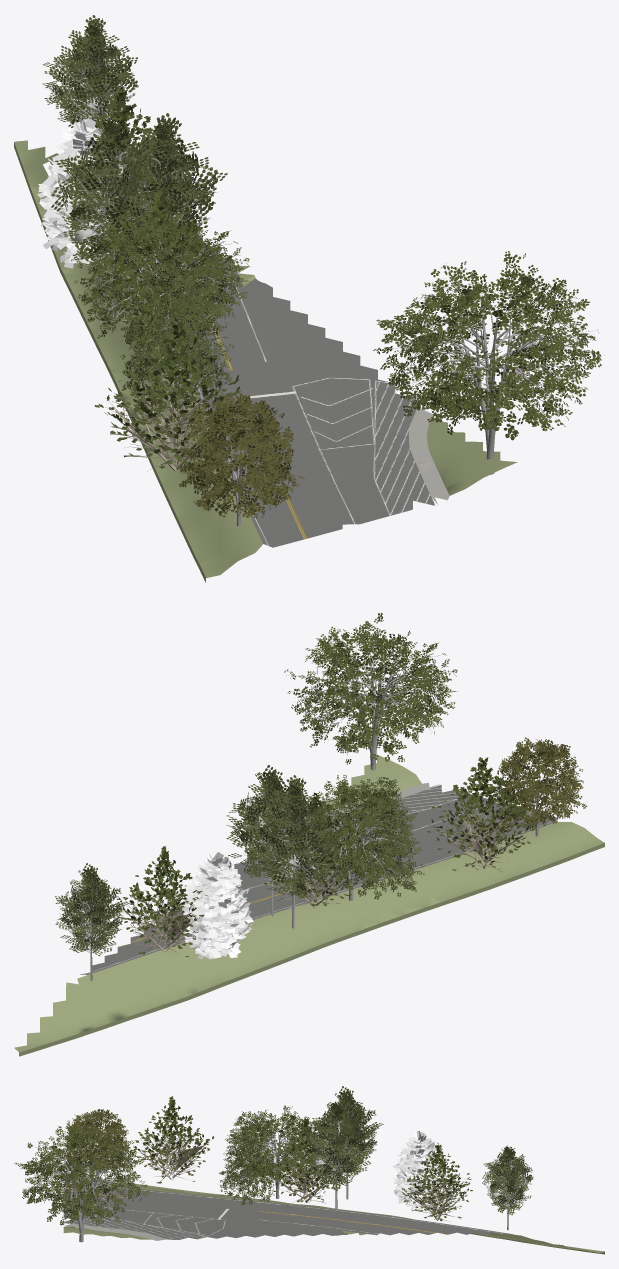
3 views of the same model, one above another, from view 1: azimuth 30°, elevation 25°; view 2: azimuth 150°, elevation 25°; view 3: azimuth 270°, elevation 25° (orthographic). The views are drawn at different scales.
Parts seen in each view (by area): view 1: SW_W_trees_Tree_039_UNVERIFIEDspecies, SW_ground_west_asphalt_-3_1_UNVERIFIED, SW_W_trees_Tree_041_UNVERIFIEDspecies, SW_ground_west_lawn_-3_1, SW_W_trees_Tree_082_UNVERIFIEDspecies, SW_W_trees_Tree_103_UNVERIFIEDspecies, SW_W_trees_Tree_086_UNVERIFIEDspecies, SW_ground_west_asphalt_-3_1, SW_W_trees_Tree_098_UNVERIFIEDspecies, SW_ground_west_concrete_-3_1_UNVERIFIED; view 2: SW_ground_west_lawn_-3_1, SW_W_trees_Tree_039_UNVERIFIEDspecies, SW_W_trees_Tree_041_UNVERIFIEDspecies, SW_W_trees_Tree_082_UNVERIFIEDspecies, SW_ground_west_asphalt_-3_1_UNVERIFIED, SW_W_trees_Tree_098_UNVERIFIEDspecies, SW_W_trees_Tree_103_UNVERIFIEDspecies, SW_W_trees_Tree_086_UNVERIFIEDspecies, SW_ground_west_asphalt_-3_1; view 3: SW_W_trees_Tree_039_UNVERIFIEDspecies, SW_ground_west_asphalt_-3_1_UNVERIFIED, SW_W_trees_Tree_082_UNVERIFIEDspecies, SW_W_trees_Tree_041_UNVERIFIEDspecies, SW_W_trees_Tree_086_UNVERIFIEDspecies, SW_W_trees_Tree_098_UNVERIFIEDspecies, SW_ground_west_lawn_-3_1, SW_W_trees_Tree_103_UNVERIFIEDspecies, SW_ground_west_asphalt_-3_1, SW_ground_west_concrete_-3_1_UNVERIFIED.
Boxes of the visible parts, x1,y1,x2,y2 form: SW_W_trees_Tree_039_UNVERIFIEDspecies: [71, 199, 604, 526]; SW_ground_west_asphalt_-3_1_UNVERIFIED: [142, 215, 418, 547]; SW_W_trees_Tree_041_UNVERIFIEDspecies: [42, 15, 227, 316]; SW_ground_west_lawn_-3_1: [14, 140, 517, 582]; SW_W_trees_Tree_082_UNVERIFIEDspecies: [81, 86, 240, 471]; SW_W_trees_Tree_103_UNVERIFIEDspecies: [179, 393, 304, 518]; SW_W_trees_Tree_086_UNVERIFIEDspecies: [118, 241, 234, 413]; SW_ground_west_asphalt_-3_1: [318, 469, 435, 524]; SW_W_trees_Tree_098_UNVERIFIEDspecies: [37, 118, 121, 268]; SW_ground_west_concrete_-3_1_UNVERIFIED: [409, 408, 449, 504]; SW_ground_west_lawn_-3_1: [14, 754, 604, 1056]; SW_W_trees_Tree_039_UNVERIFIEDspecies: [284, 613, 582, 900]; SW_W_trees_Tree_041_UNVERIFIEDspecies: [55, 765, 338, 981]; SW_W_trees_Tree_082_UNVERIFIEDspecies: [115, 757, 533, 956]; SW_ground_west_asphalt_-3_1_UNVERIFIED: [80, 801, 558, 974]; SW_W_trees_Tree_098_UNVERIFIEDspecies: [181, 852, 253, 959]; SW_W_trees_Tree_103_UNVERIFIEDspecies: [492, 737, 587, 830]; SW_W_trees_Tree_086_UNVERIFIEDspecies: [340, 777, 424, 899]; SW_ground_west_asphalt_-3_1: [396, 784, 499, 824]; SW_W_trees_Tree_039_UNVERIFIEDspecies: [14, 1105, 318, 1242]; SW_ground_west_asphalt_-3_1_UNVERIFIED: [63, 1181, 504, 1239]; SW_W_trees_Tree_082_UNVERIFIEDspecies: [130, 1096, 472, 1221]; SW_W_trees_Tree_041_UNVERIFIEDspecies: [302, 1086, 533, 1230]; SW_W_trees_Tree_086_UNVERIFIEDspecies: [218, 1111, 276, 1205]; SW_W_trees_Tree_098_UNVERIFIEDspecies: [392, 1131, 444, 1213]; SW_ground_west_lawn_-3_1: [63, 1174, 604, 1254]; SW_W_trees_Tree_103_UNVERIFIEDspecies: [64, 1109, 135, 1173]; SW_ground_west_asphalt_-3_1: [63, 1201, 120, 1227]; SW_ground_west_concrete_-3_1_UNVERIFIED: [64, 1223, 167, 1240].
Size of the model in its own units: 45.37 by 26.43 by 107.
17 materials, 9 textured.
